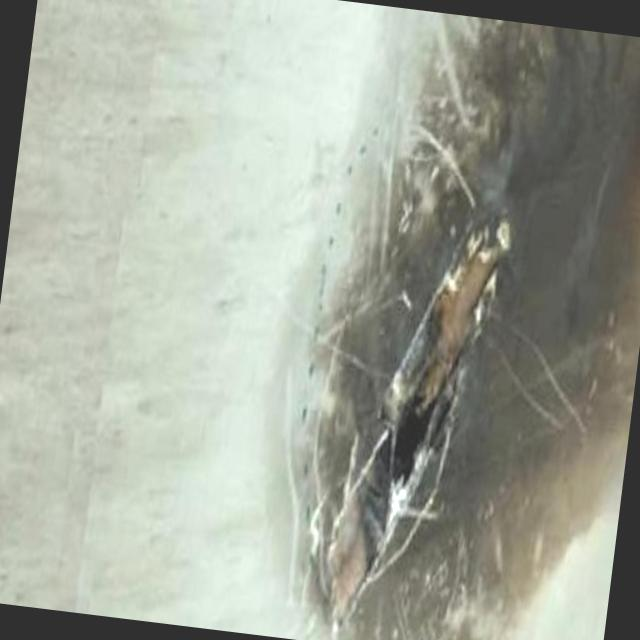crack: (245, 3, 640, 640)
